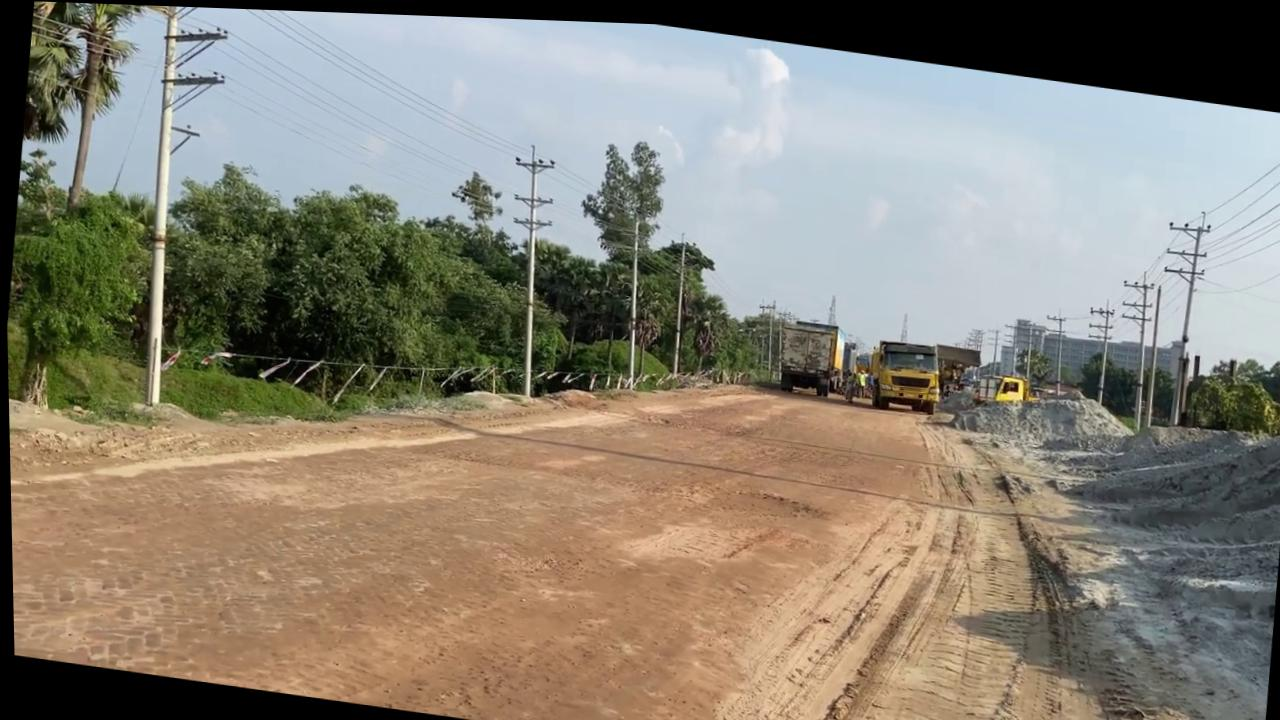Muddy road: (5, 267, 1280, 720)
Pole: (122, 4, 205, 407), (489, 137, 563, 395), (614, 207, 651, 384), (665, 228, 692, 371)
Traffic-sign: (13, 0, 179, 223)
Tree: (861, 328, 944, 408), (772, 309, 848, 393), (969, 362, 1040, 406), (930, 335, 981, 394)
